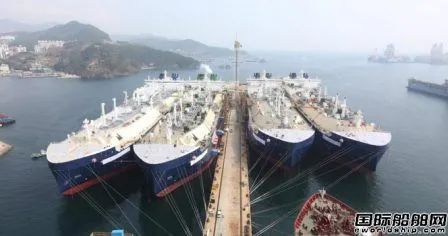Cargoship: (43, 74, 179, 198), (131, 77, 225, 195), (281, 74, 393, 166), (245, 67, 314, 165)
